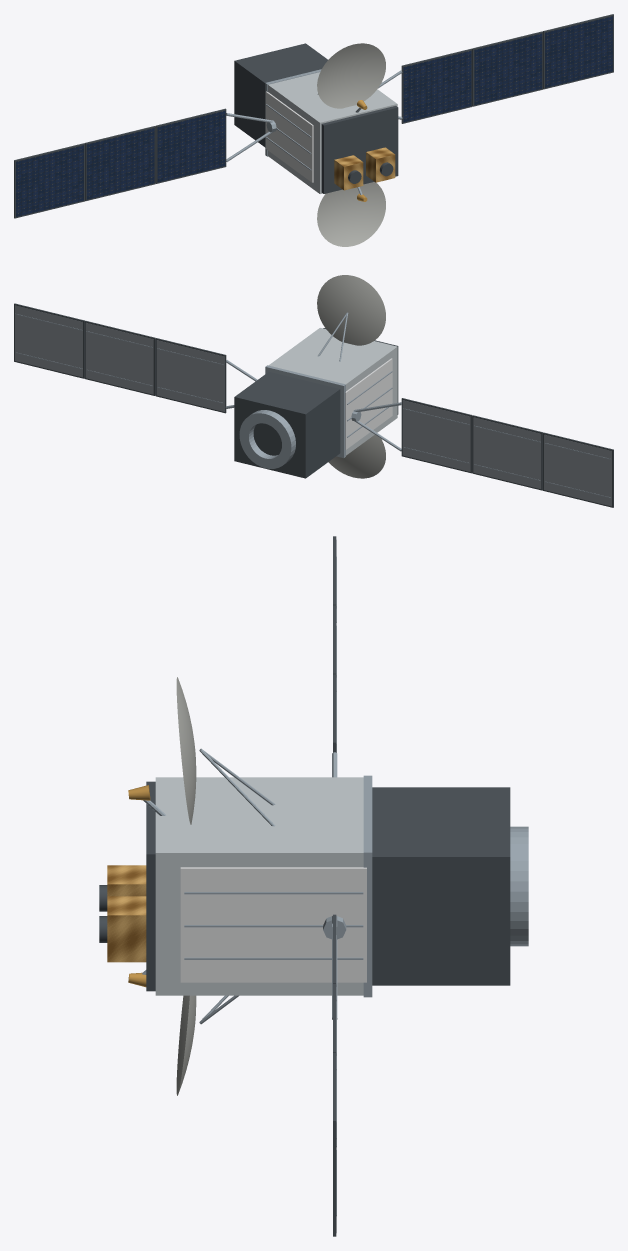
Rendered from ref-a2100a-26495.glb.
The picture shows the model from 3 angles, top to bottom: view 1: azimuth 30°, elevation 25°; view 2: azimuth 150°, elevation 25°; view 3: azimuth 270°, elevation 25°; orthographic projection. The views are drawn at different scales.
Parts seen in each view (by area): view 1: Solar cell panel (×6), Communications reflector (×2), Service module, Earth-facing deck, Payload module, Solar panel frame (×6), Radiator face, Communications feed assembly (×2); view 2: Rear array substrate (×6), Service module, Communications reflector (×2), Payload module, Solar panel frame (×6), Radiator face, Launch adapter ring, Module interface; view 3: Service module, Payload module, Radiator face, Communications feed assembly (×2), Communications reflector (×2), Launch adapter ring, Earth-facing deck, Module interface.
Part boxes in pixels (<box>): Solar cell panel (×6): <box>16,16,612,216</box>; Communications reflector (×2): <box>317,43,385,246</box>; Service module: <box>234,43,327,147</box>; Earth-facing deck: <box>321,106,398,193</box>; Payload module: <box>268,72,397,193</box>; Solar panel frame (×6): <box>14,14,613,218</box>; Radiator face: <box>265,91,313,182</box>; Communications feed assembly (×2): <box>334,147,395,190</box>; Rear array substrate (×6): <box>15,305,611,506</box>; Service module: <box>234,372,340,478</box>; Communications reflector (×2): <box>317,275,385,478</box>; Payload module: <box>268,328,397,455</box>; Solar panel frame (×6): <box>14,303,613,507</box>; Radiator face: <box>345,358,392,449</box>; Launch adapter ring: <box>239,410,295,468</box>; Module interface: <box>265,365,345,458</box>; Service module: <box>372,787,510,985</box>; Payload module: <box>155,777,363,995</box>; Radiator face: <box>180,867,366,982</box>; Communications feed assembly (×2): <box>107,865,146,962</box>; Communications reflector (×2): <box>176,677,196,1095</box>; Launch adapter ring: <box>510,826,528,946</box>; Earth-facing deck: <box>146,781,155,991</box>; Module interface: <box>363,775,372,997</box>.
Bounding box in the file's own units: 14.68 × 4.72 × 4.56.
Materials: 9 (2 with a texture image).
